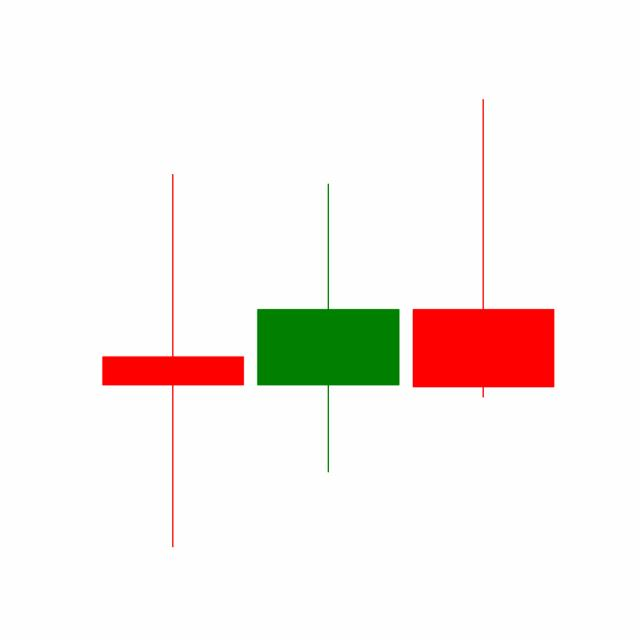Spinning Top: (249, 181, 406, 476)
